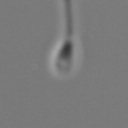normal: (55, 1, 80, 36)
